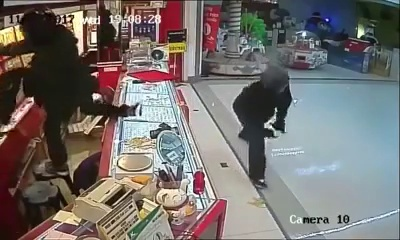helmet: (19, 7, 54, 38), (254, 65, 296, 90)
